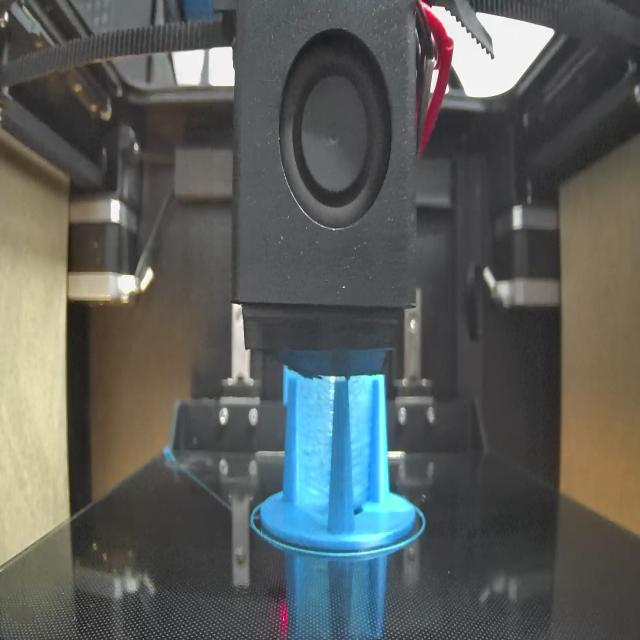stringing: (294, 376, 330, 530), (353, 378, 369, 514)
